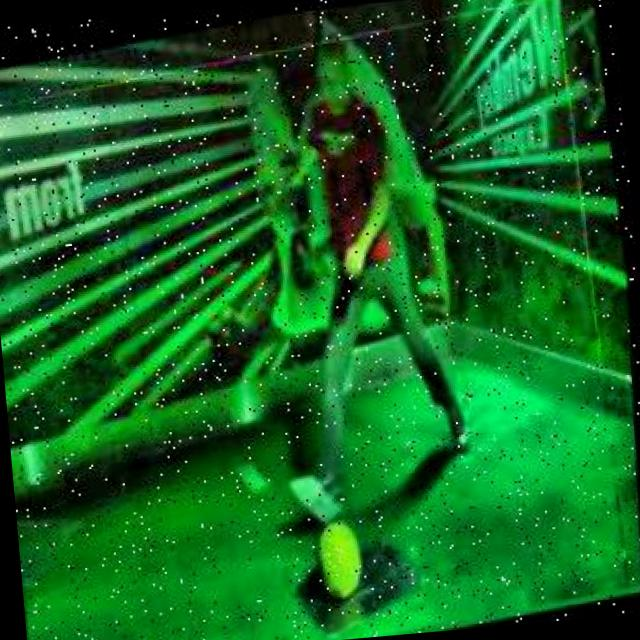Tennis Ball: (315, 512, 372, 606)
